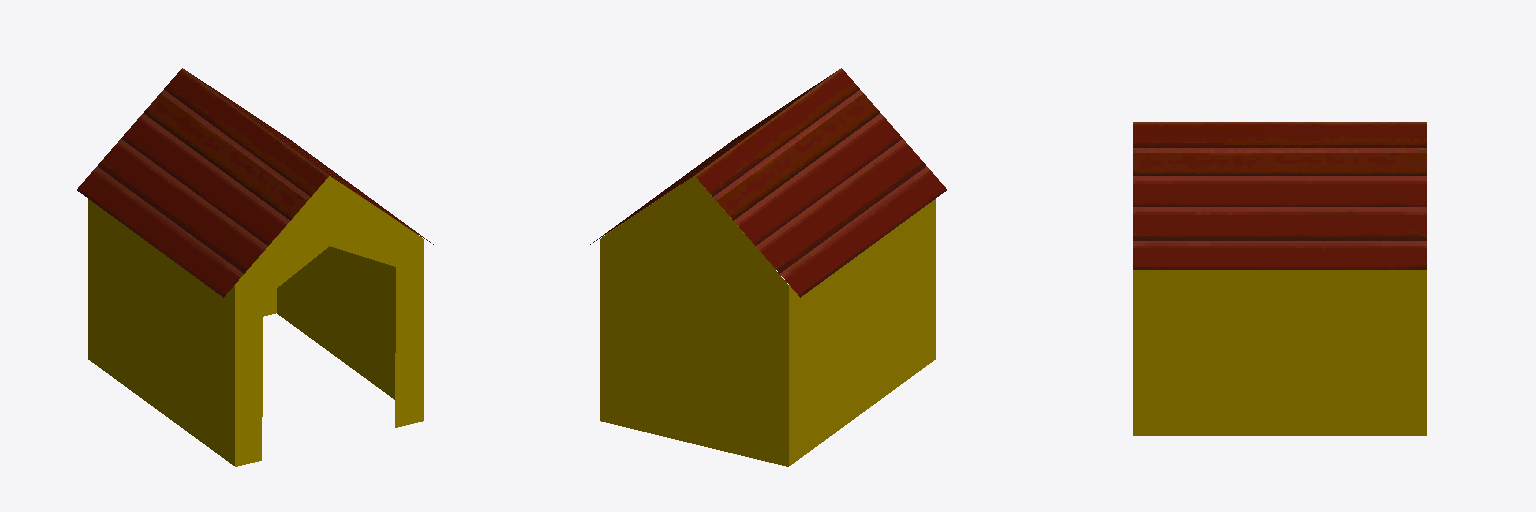
3 views of the same model, side by side, from view 1: azimuth 30°, elevation 25°; view 2: azimuth 150°, elevation 25°; view 3: azimuth 270°, elevation 25° (orthographic).
Visible parts, largest first — view 1: 2, default; view 2: 2, default; view 3: 2, default.
Part boxes in pixels (left/top/right/bottom): 2: left=88, top=176, right=423, bottom=466; default: left=77, top=68, right=433, bottom=297; 2: left=600, top=176, right=935, bottom=466; default: left=590, top=68, right=946, bottom=297; 2: left=1133, top=270, right=1426, bottom=435; default: left=1133, top=122, right=1426, bottom=269.
Size of the model in its own units: 17.88 by 21.62 by 21.5.
1 materials, 1 textured.